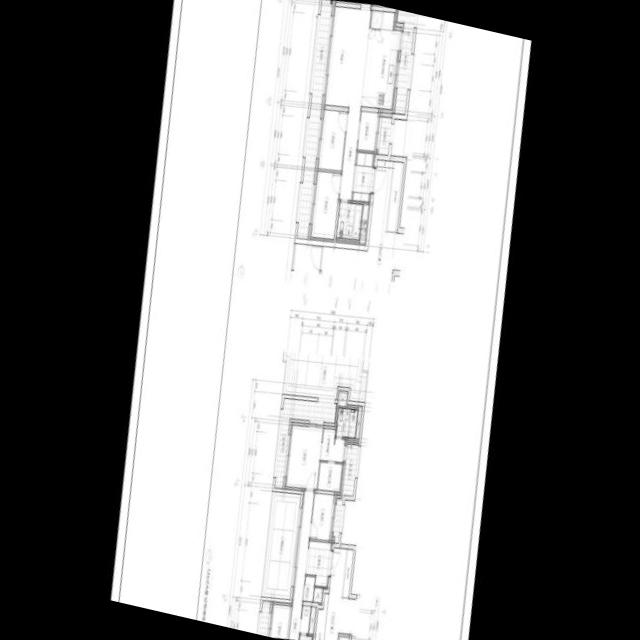background: (110, 0, 530, 640)
space_balconi: (296, 0, 331, 238), (273, 397, 335, 487), (332, 443, 357, 542), (394, 9, 414, 113), (377, 116, 391, 154)
space_bedroom: (283, 421, 322, 490), (308, 170, 339, 241), (316, 109, 346, 170), (309, 492, 334, 540), (269, 601, 290, 638)
space_dressroom: (316, 461, 342, 494), (319, 428, 345, 461)
space_elevator_hall: (320, 166, 402, 281), (323, 547, 359, 640)
space_front: (304, 540, 331, 588), (351, 151, 374, 201)
space_kitchen: (360, 10, 400, 112)
space_living_room: (322, 6, 370, 199), (288, 490, 313, 639)
space_other: (385, 161, 403, 231), (357, 110, 379, 150), (314, 593, 327, 640), (341, 548, 352, 597), (359, 203, 369, 244), (302, 575, 314, 601), (299, 605, 310, 633), (355, 405, 361, 438), (308, 606, 315, 633), (336, 390, 347, 406), (312, 587, 322, 604), (375, 159, 392, 167), (338, 636, 348, 640)
space_toilet: (335, 201, 362, 239), (335, 407, 356, 437)
